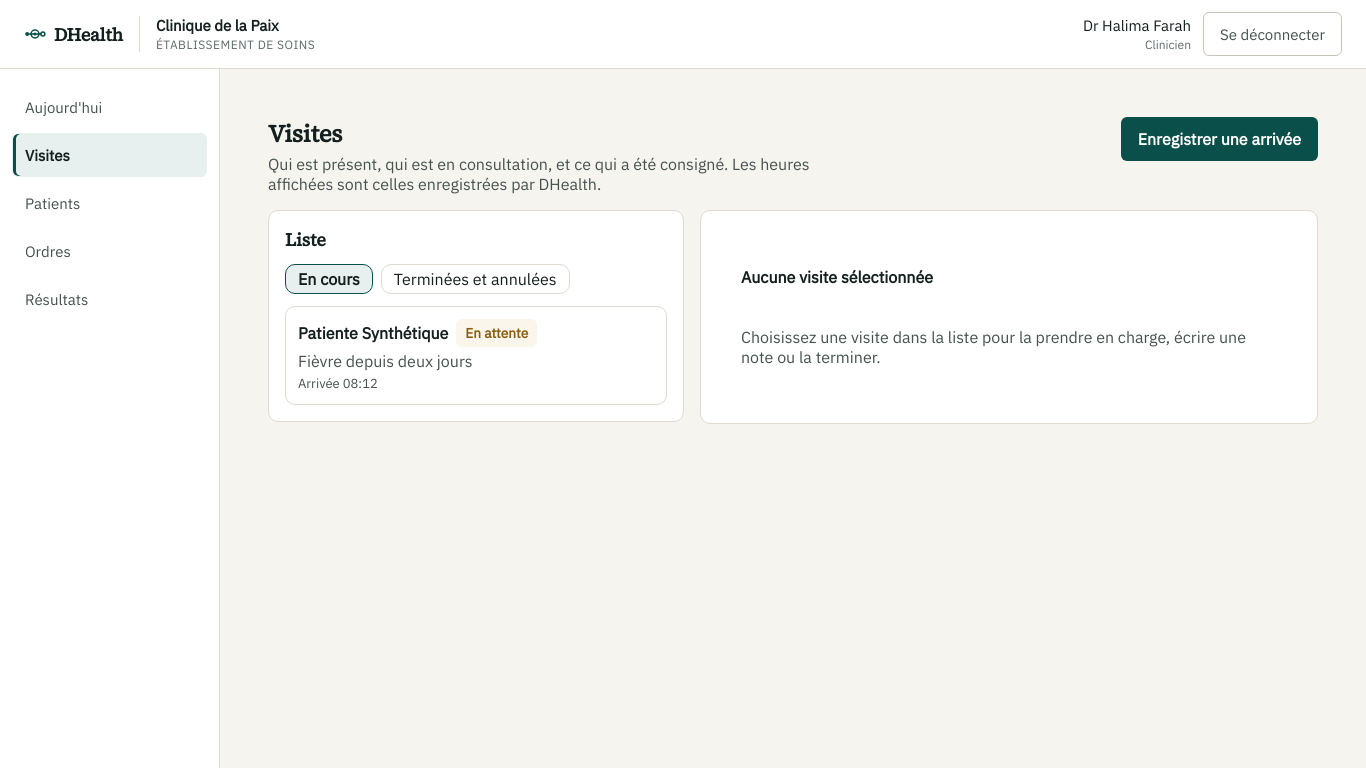
Test: Visites — the lifecycle › offers Annuler while waiting, and never once the visit is in consultation
Click the button "Patiente Synthétique": coordinates (373, 333) 285,306 -> 667,405
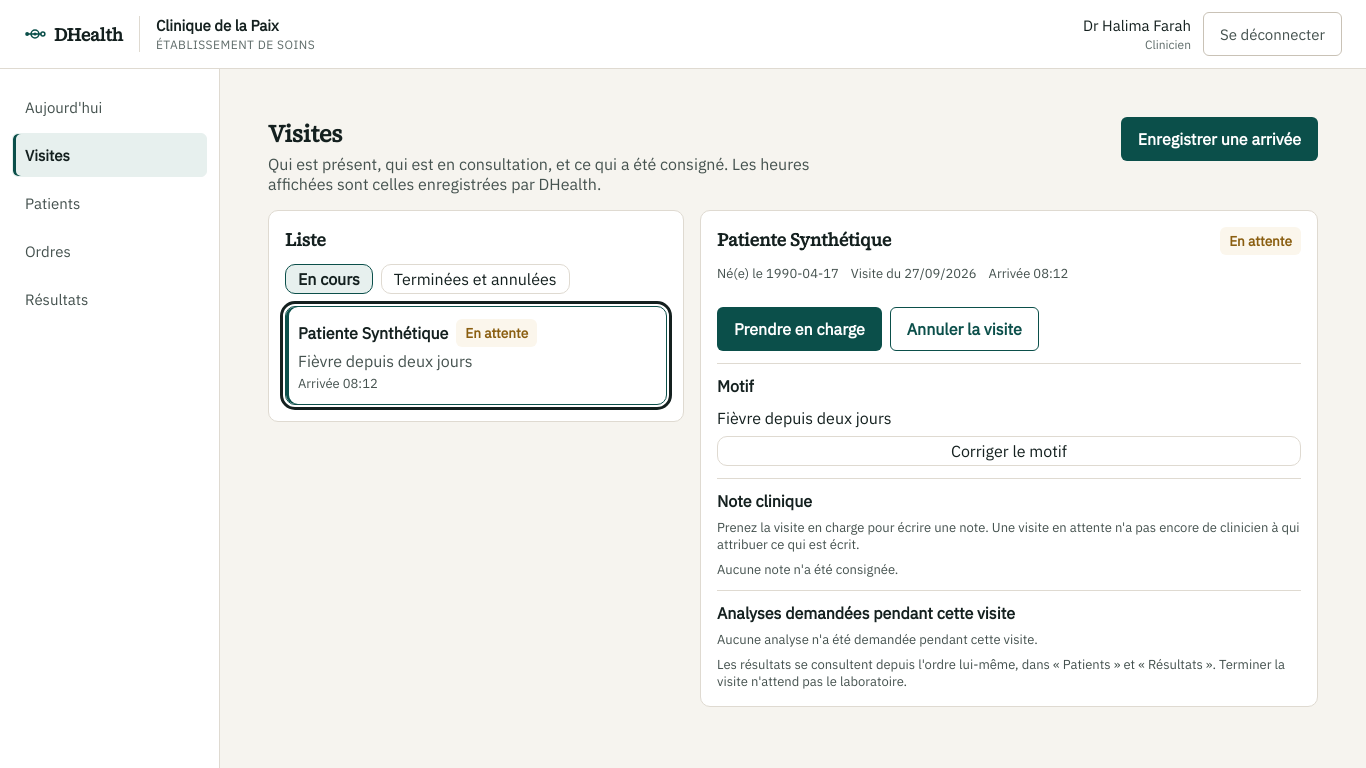
Result: the button "Annuler la visite" is shown at 890,307 -> 1039,351
Click the button "Prendre en charge": coordinates (799, 329) 717,307 -> 882,351
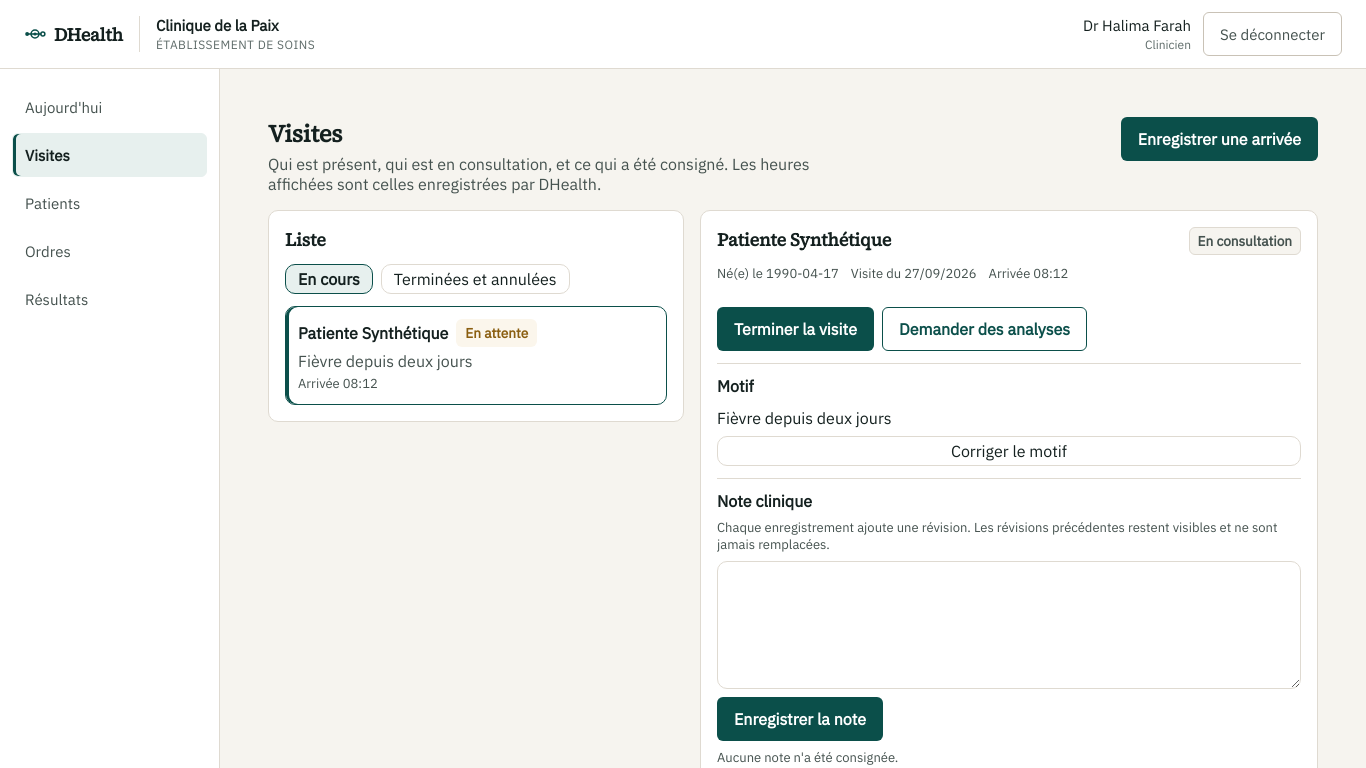
Result: the button "Annuler la visite" is gone
Result: the button "Terminer la visite" is shown at 717,307 -> 874,351
